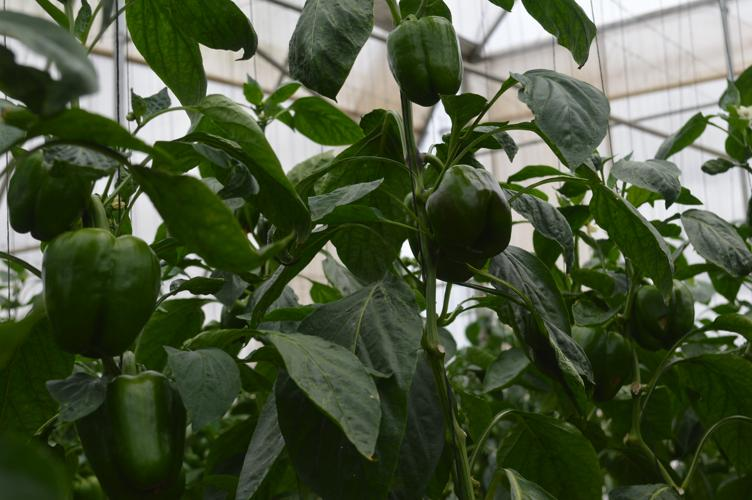BellPepper: (31, 232, 161, 353), (65, 372, 188, 488), (427, 163, 514, 256), (1, 151, 91, 238), (406, 197, 483, 282), (383, 16, 463, 97), (566, 323, 629, 397), (629, 280, 694, 350)
